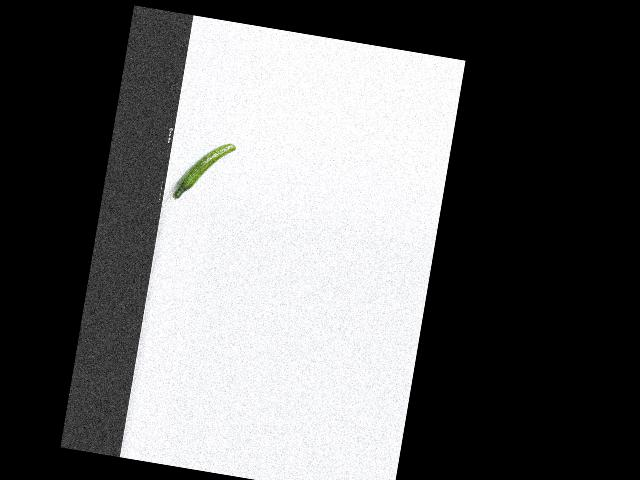cucumber: (172, 136, 236, 208)
